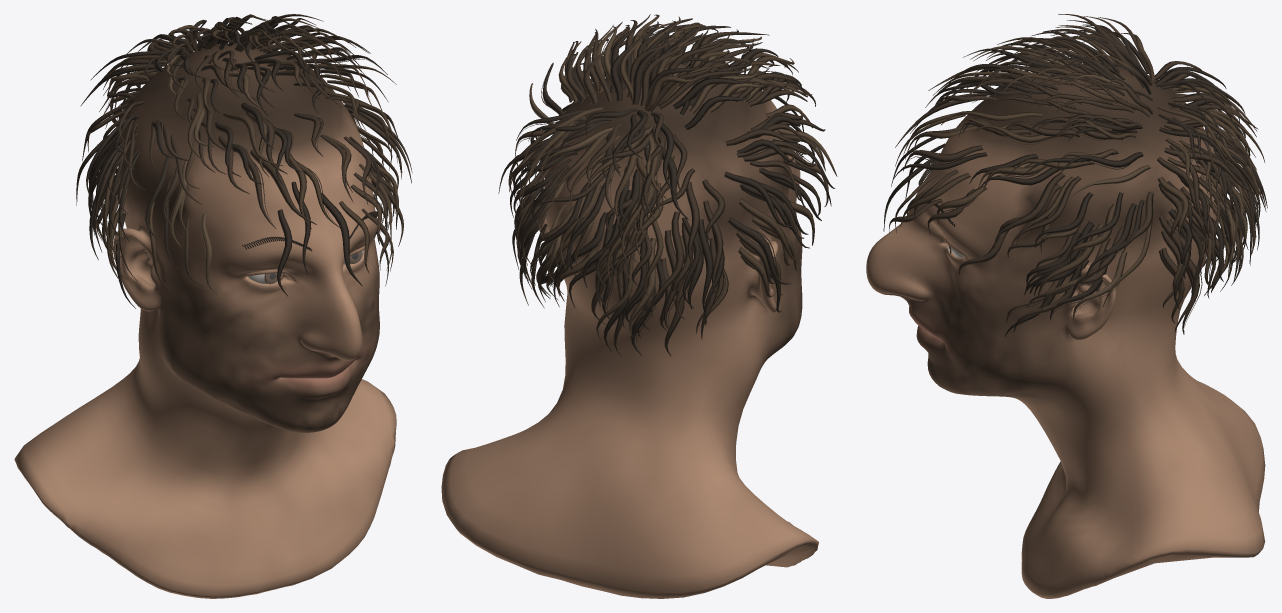
The model's file is street01-head.glb.
3 renders of one model, left to right at view 1: azimuth 30°, elevation 25°; view 2: azimuth 150°, elevation 25°; view 3: azimuth 270°, elevation 25°, orthographic. The views are drawn at different scales.
Visible parts, largest first — view 1: Street01_AnatomicalHead, Street01_LooseWaveGroom; view 2: Street01_AnatomicalHead, Street01_LooseWaveGroom; view 3: Street01_AnatomicalHead, Street01_LooseWaveGroom.
Part boxes in pixels (left/top/right/bottom): Street01_AnatomicalHead: left=14, top=43, right=396, bottom=598; Street01_LooseWaveGroom: left=76, top=14, right=412, bottom=308; Street01_AnatomicalHead: left=441, top=58, right=818, bottom=598; Street01_LooseWaveGroom: left=498, top=14, right=837, bottom=356; Street01_AnatomicalHead: left=866, top=65, right=1265, bottom=598; Street01_LooseWaveGroom: left=883, top=14, right=1267, bottom=336.
Bounding box in the file's own units: 0.2737 × 0.4022 × 0.2745.
